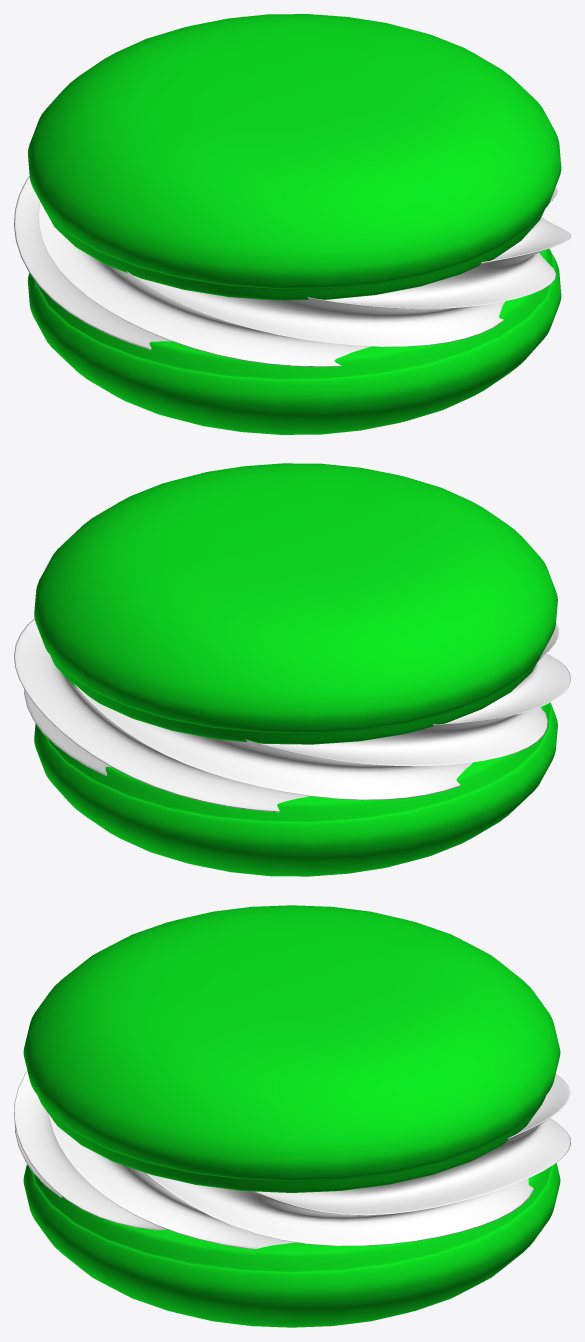
File: マカロン.fbx
The picture shows the model from 3 angles, top to bottom: view 1: azimuth 30°, elevation 25°; view 2: azimuth 150°, elevation 25°; view 3: azimuth 270°, elevation 25°; orthographic projection. The views are drawn at different scales.
Parts seen in each view (by area): view 1: 円柱, トーラス.003; view 2: 円柱, トーラス.003; view 3: 円柱, トーラス.003.
Boxes of the visible parts, left/top/right/bottom form: 円柱: left=27, top=14, right=561, bottom=434; トーラス.003: left=14, top=176, right=570, bottom=366; 円柱: left=34, top=463, right=557, bottom=876; トーラス.003: left=14, top=618, right=570, bottom=812; 円柱: left=23, top=905, right=560, bottom=1327; トーラス.003: left=14, top=1071, right=570, bottom=1249.
Bounding box in the file's own units: 203 × 112 × 203.
